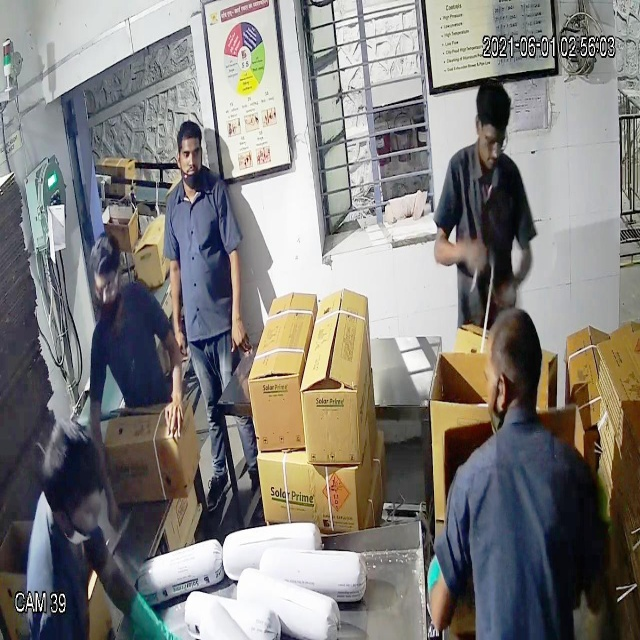Gafas: (473, 120, 513, 159)
